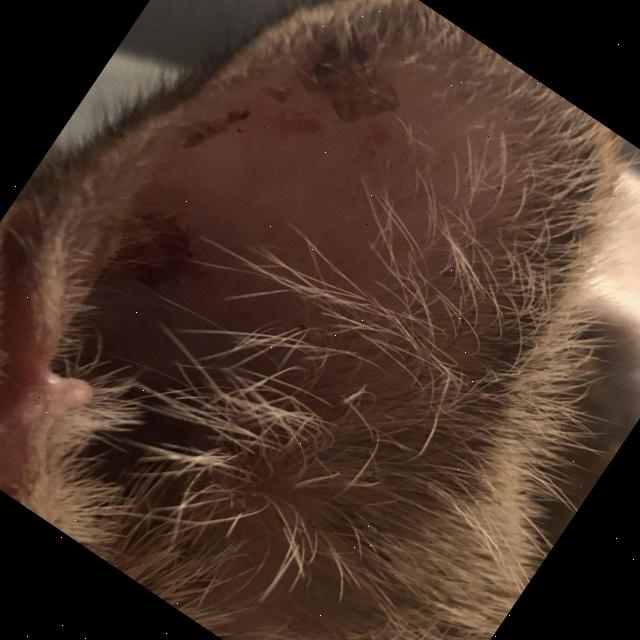cat-scabies: (90, 181, 220, 312)
